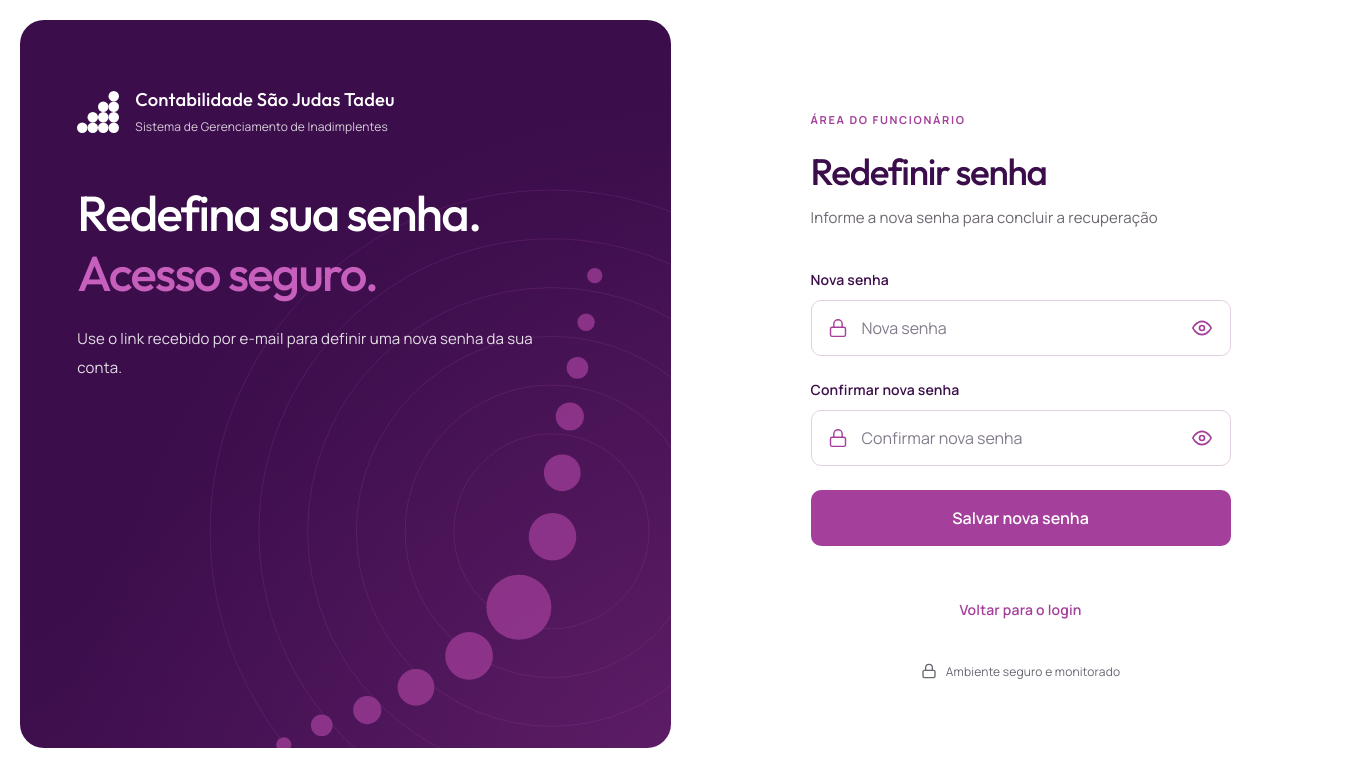
Test case: RedefinirSenha › envia token da URL com a nova senha no endpoint novo
Type "nova1234" into the password field labelled "Nova senha" at (1014, 328), box [862,301,1168,355]
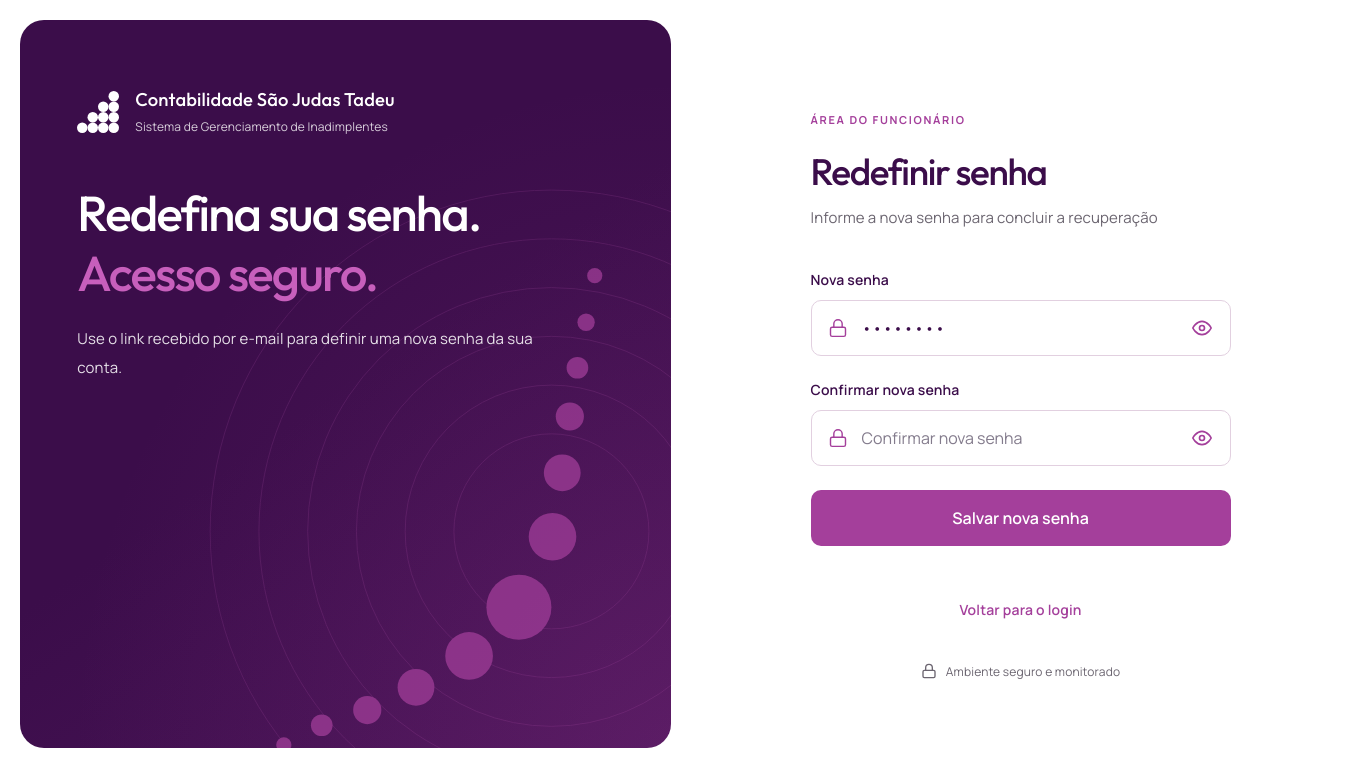
Type "nova1234" into the password field labelled "Confirmar nova senha" at (1014, 438), box [862,411,1168,465]
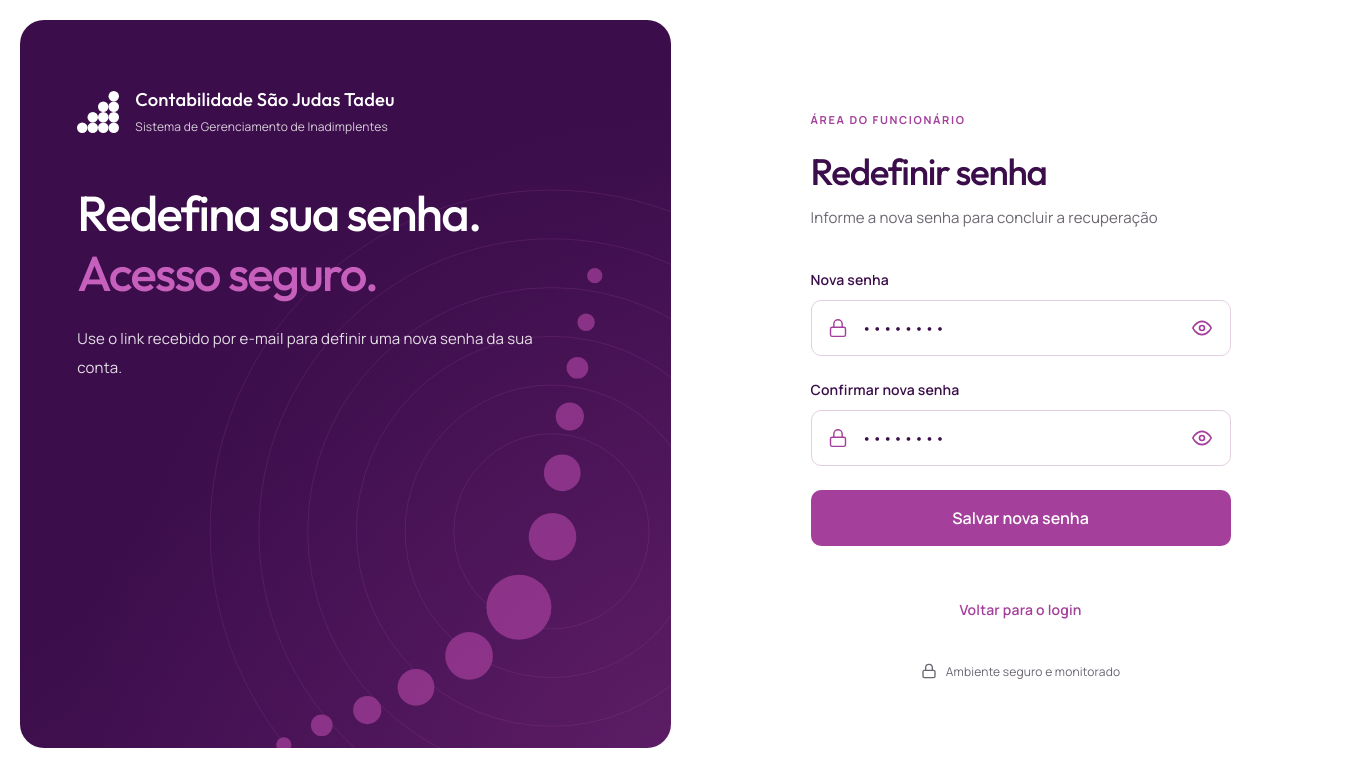
Click the button "Salvar nova senha" at (1020, 518), box [810,490,1230,546]
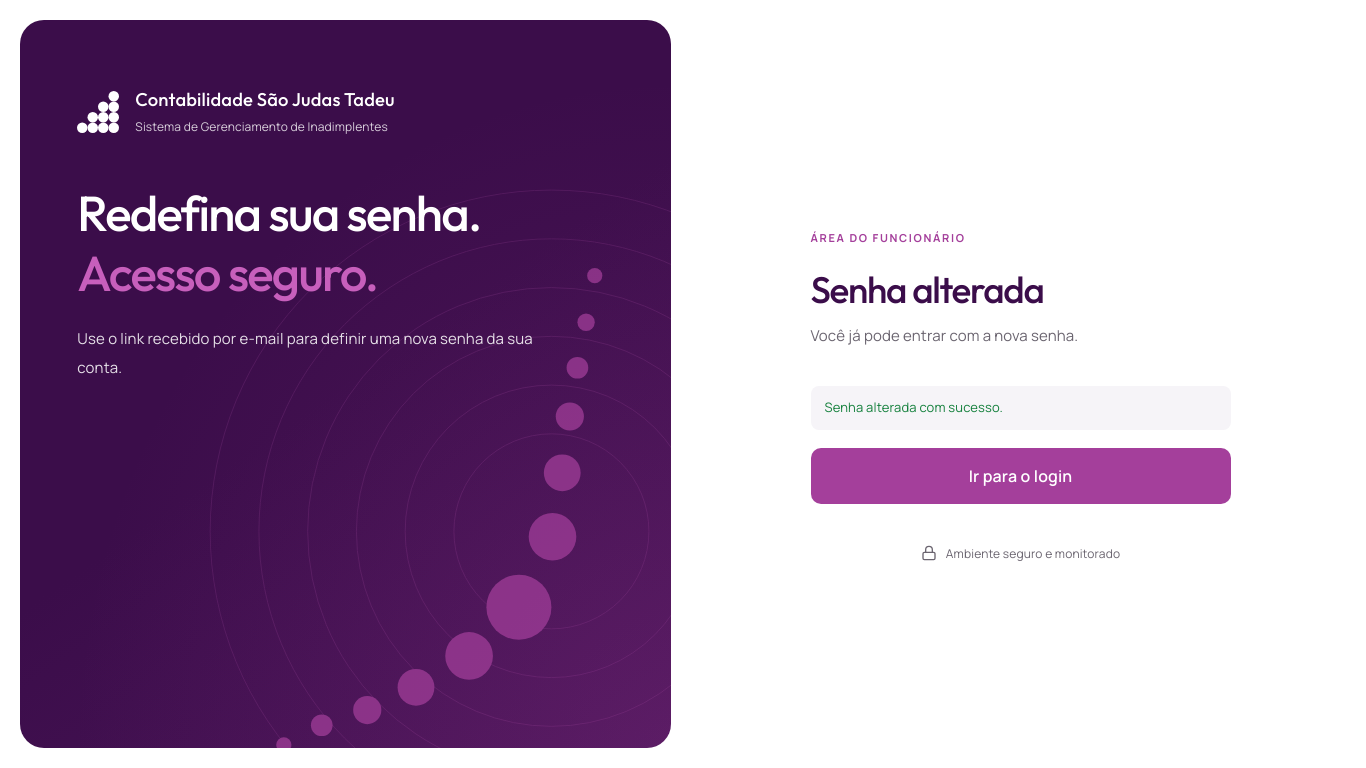
Expected: the text "Senha alterada com sucesso." is shown, [810,386,1230,430]
Expected: the heading "Senha alterada" is shown, [810,266,1044,312]
